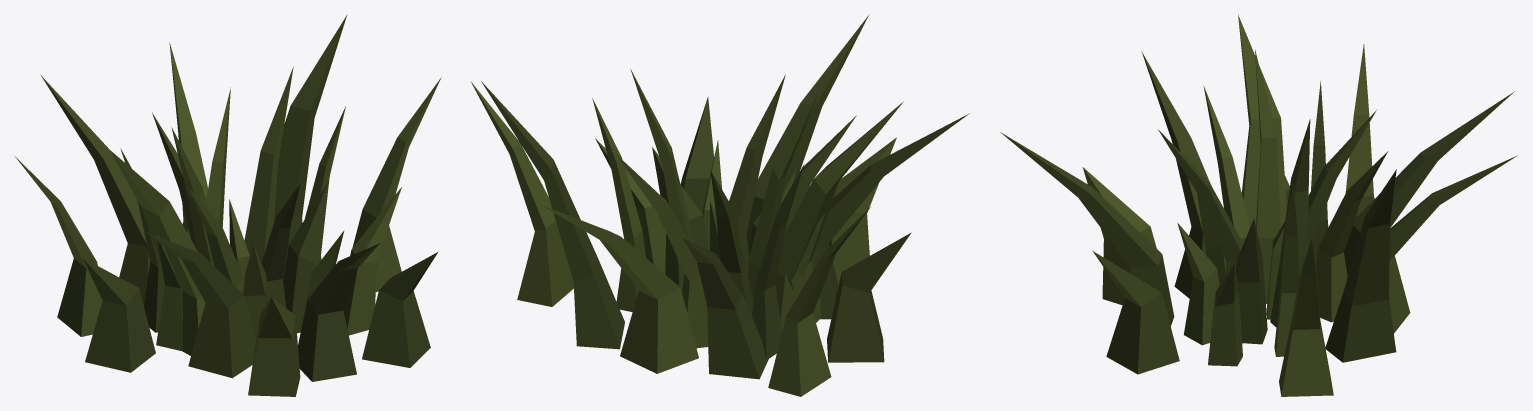
Rendered from Grass_4.fbx.
3 renders of one model, left to right at view 1: azimuth 30°, elevation 25°; view 2: azimuth 150°, elevation 25°; view 3: azimuth 270°, elevation 25°, orthographic. The views are drawn at different scales.
Visible parts, largest first — view 1: Grass_4; view 2: Grass_4; view 3: Grass_4.
Part boxes in pixels (x1,y1,x2,y2): Grass_4: (15, 15, 441, 396); Grass_4: (471, 14, 969, 396); Grass_4: (1000, 14, 1517, 396).
Size of the model in its own units: 0.9542 by 0.5337 by 1.07.
